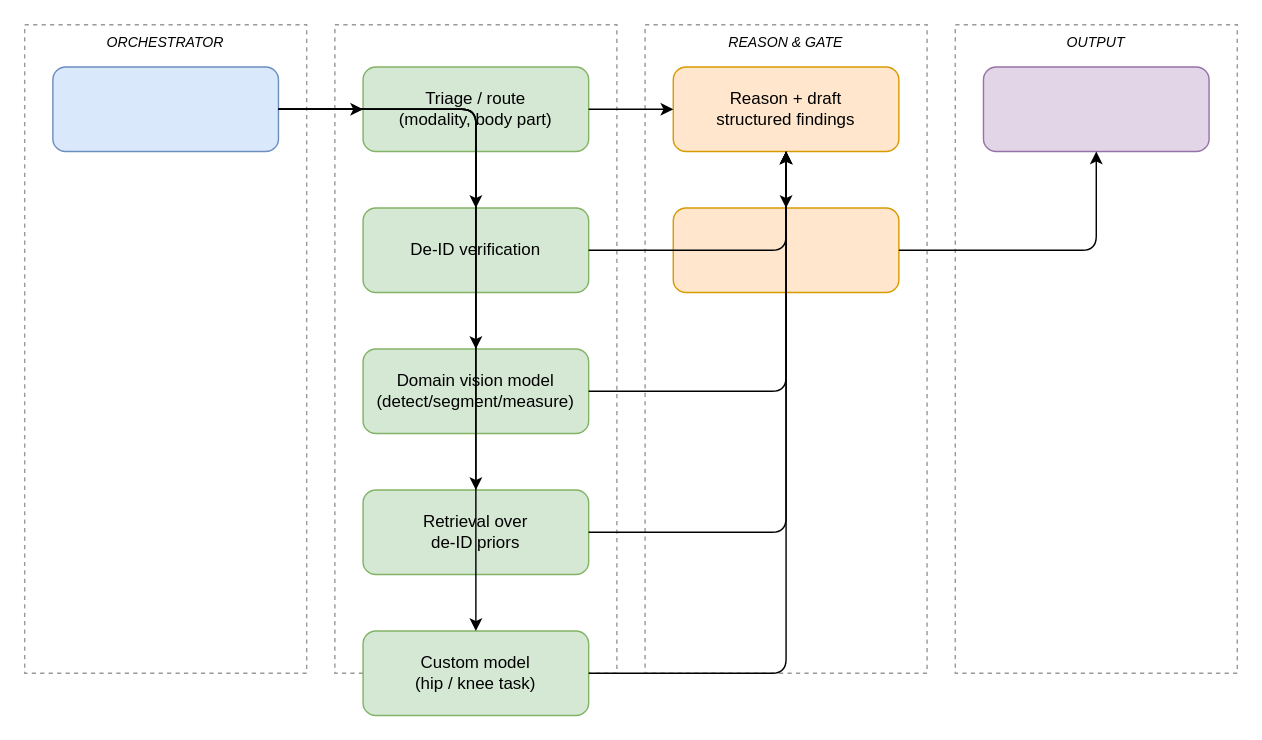
This 1262x740 diagram has some shape labels left out. The box of each missing label's shape, as (x1, y1, x2, y2) in pixels:
Content-safety + evaluator gate: (672, 207, 899, 293)
Emit FHIR output -> human review: (982, 66, 1209, 152)
Orchestrator agent: (51, 66, 278, 152)
TOOLS (MODELS & SERVICES): (333, 23, 617, 673)
